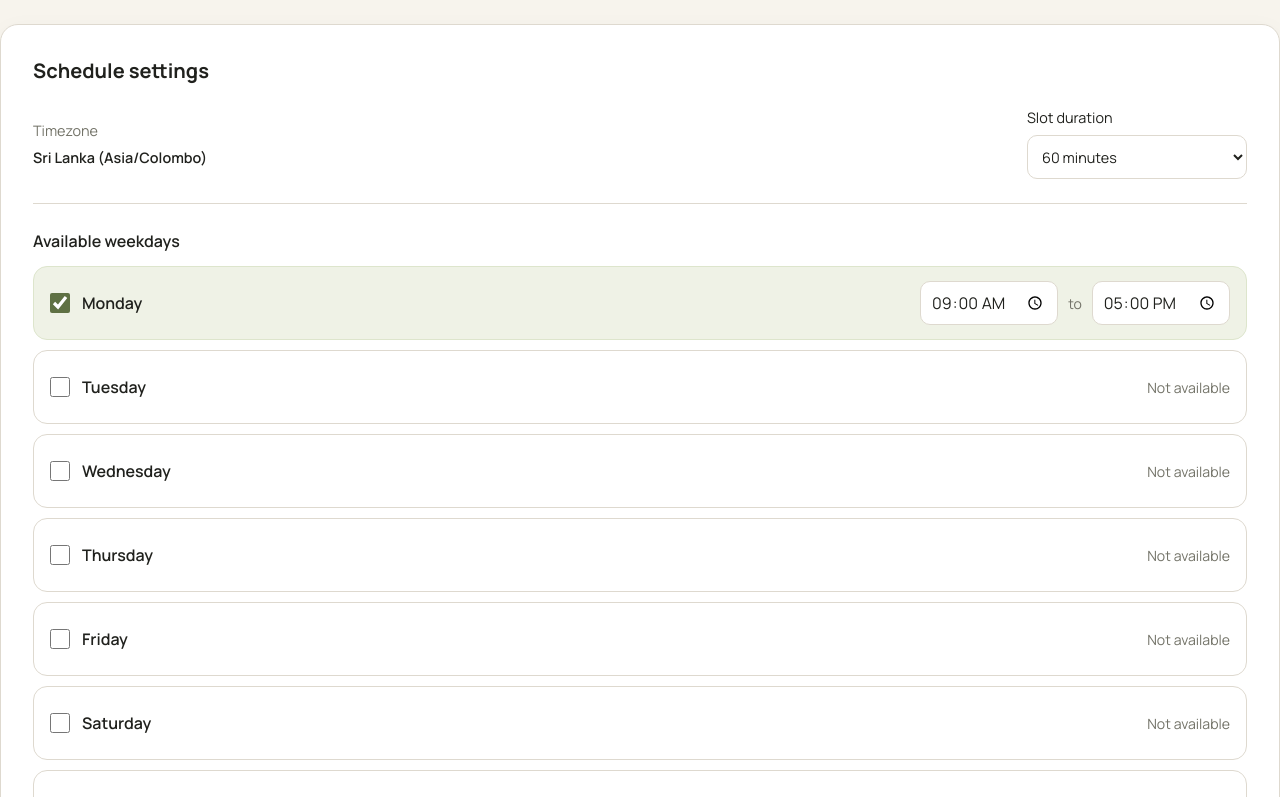
Test: Viewing availability editor › saves changed duration/hours only through API and acknowledges only API success
Replace the text in the time field named "Monday start" with "10:00": (989, 303) left=920, top=281, right=1058, bottom=325
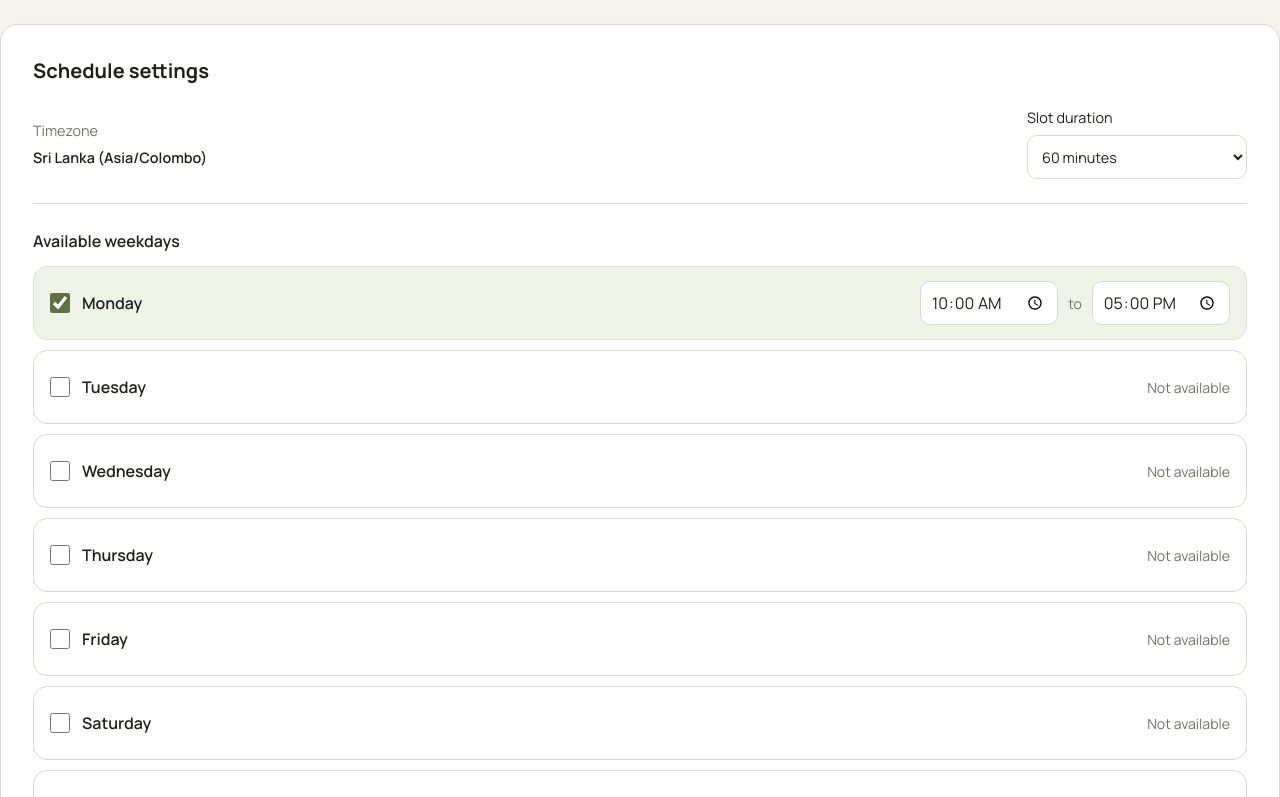
Select "45 minutes" in the dropdown labelled "Slot duration": (1137, 157) left=1027, top=135, right=1247, bottom=179
(page scrolled)
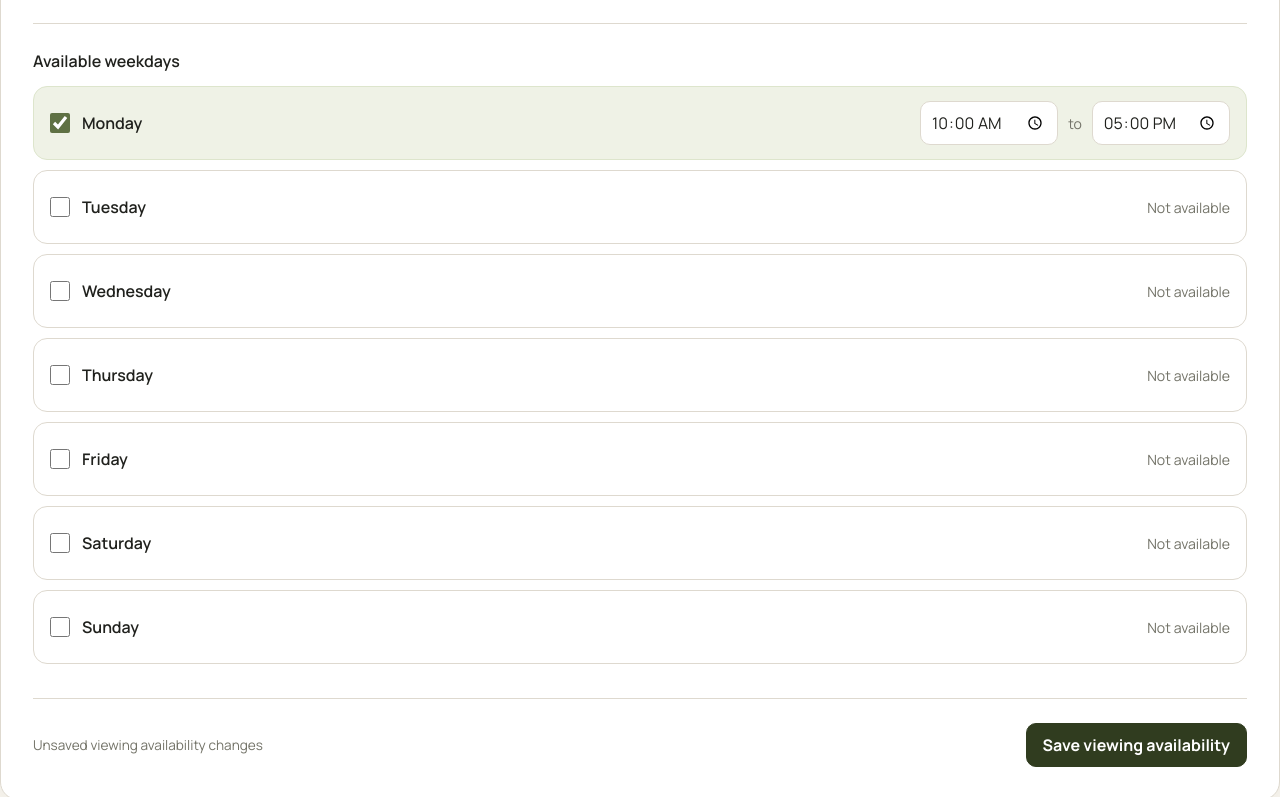
Click the button "Save viewing availability": (1136, 745) left=1026, top=723, right=1247, bottom=767
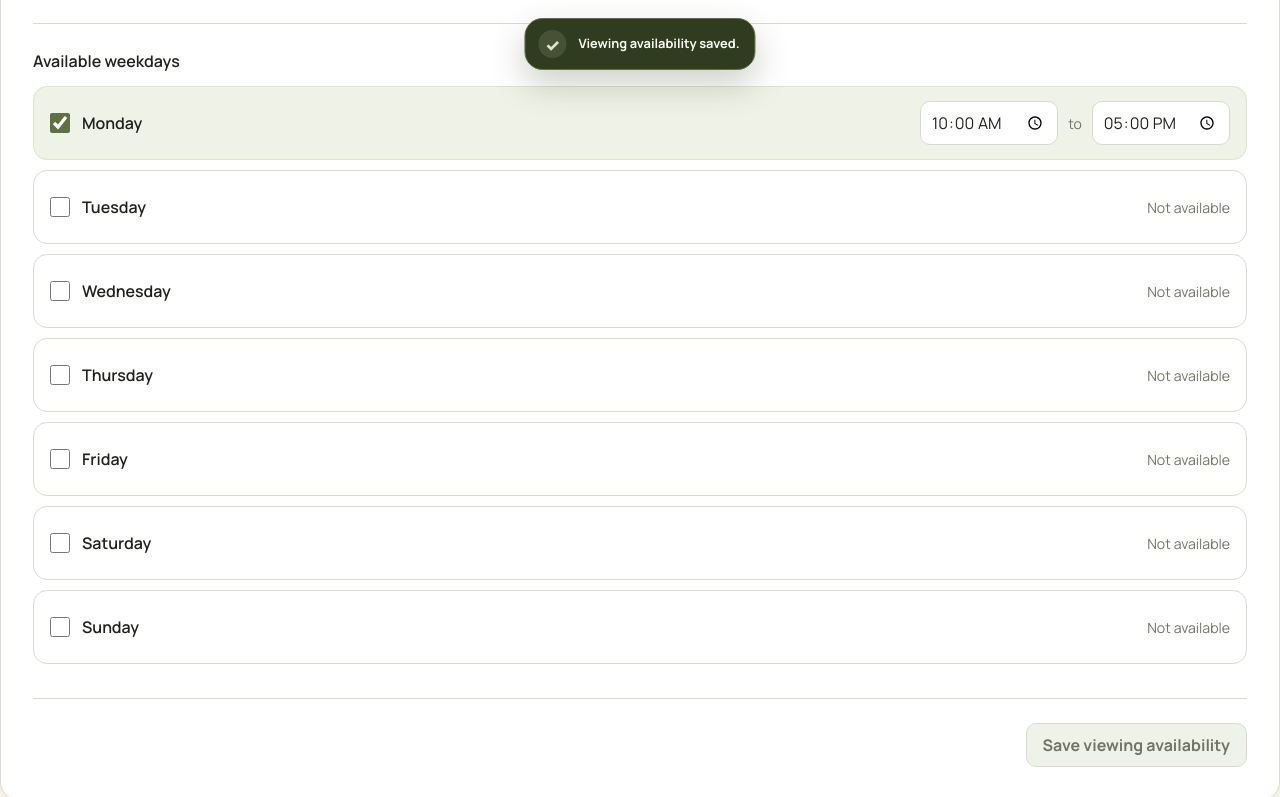
expect the button named "Saving availability..." is disabled: met, box left=1026, top=723, right=1247, bottom=767
